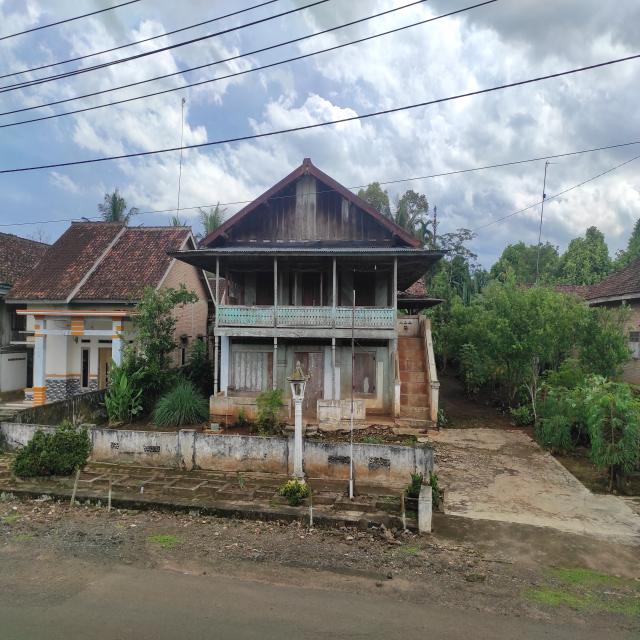Atap: (165, 158, 450, 309)
Ornamen: (218, 304, 394, 329)
Pintu: (292, 350, 324, 409), (302, 272, 328, 306)
Tangga: (397, 338, 431, 420)
Tembok Bangunan: (220, 336, 394, 414)
